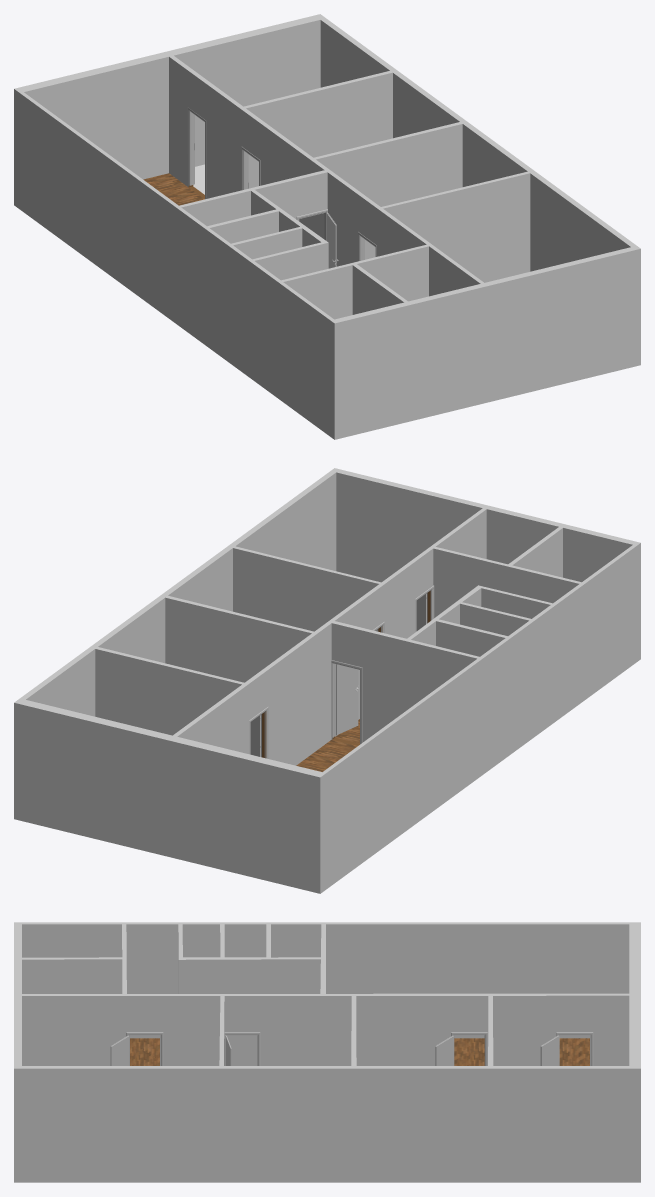
3 renders of one model, top to bottom at view 1: azimuth 30°, elevation 25°; view 2: azimuth 150°, elevation 25°; view 3: azimuth 270°, elevation 25°, orthographic. The views are drawn at different scales.
Parts seen in each view (by area): view 1: Wände; view 2: Wände; view 3: Wände.
Part boxes in pixels (box(x1,y1,x2,y2)): Wände: box(14, 14, 640, 439); Wände: box(14, 468, 640, 893); Wände: box(14, 922, 640, 1182).
Size of the model in its own units: 149 by 54.17 by 270.
